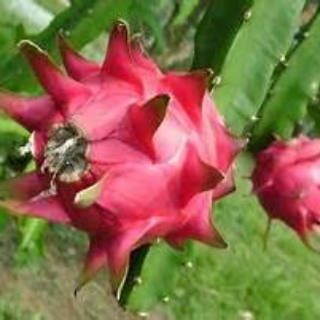thanh_long: (3, 24, 245, 282)
